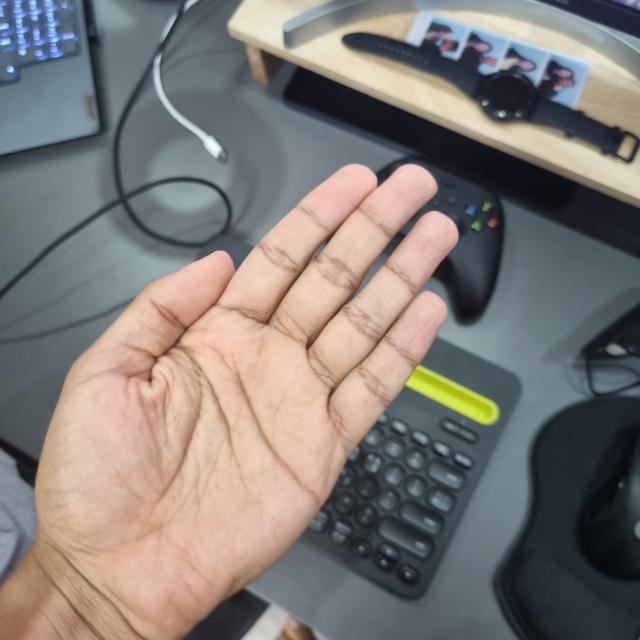Paper: (34, 161, 455, 633)
